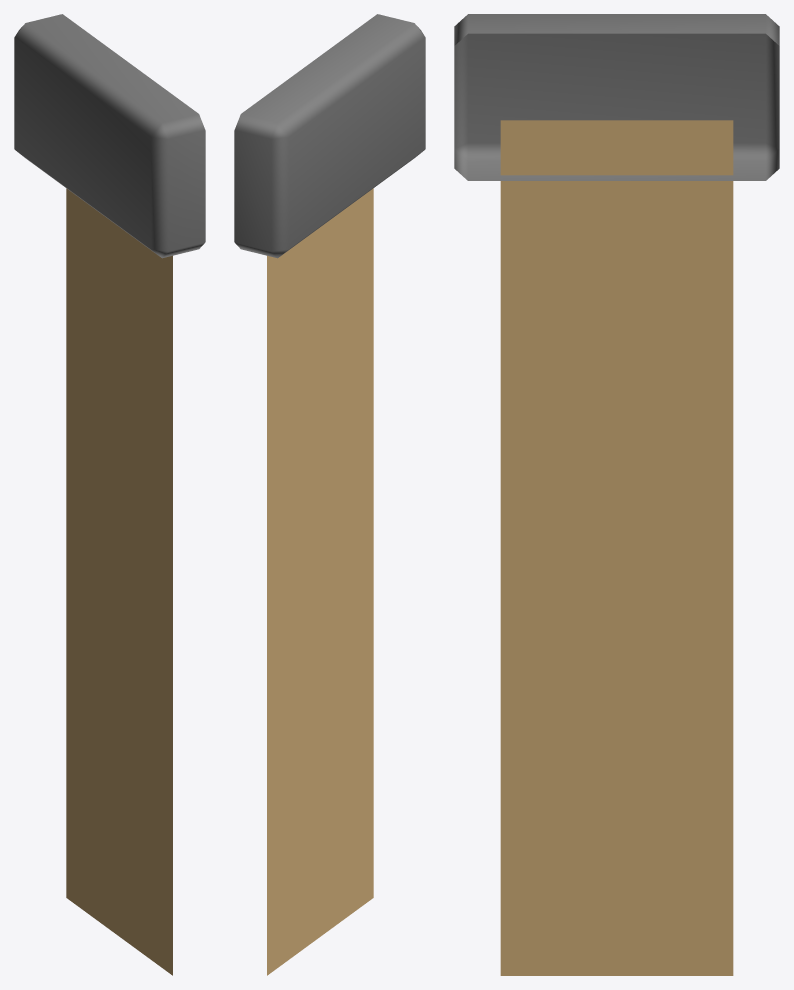
File: SM_WallEndA_4_LOD0.fbx
3 renders of one model, left to right at view 1: azimuth 30°, elevation 25°; view 2: azimuth 150°, elevation 25°; view 3: azimuth 270°, elevation 25°, orthographic. The views are drawn at different scales.
Visible parts, largest first — view 1: SM_WallEndA_4_LOD0; view 2: SM_WallEndA_4_LOD0; view 3: SM_WallEndA_4_LOD0.
Part boxes in pixels (x1,y1,x2,y2): SM_WallEndA_4_LOD0: (14,14,205,975); SM_WallEndA_4_LOD0: (234,14,425,975); SM_WallEndA_4_LOD0: (454,14,779,975).
Size of the model in its own units: 0.26 by 4.5 by 1.4.
